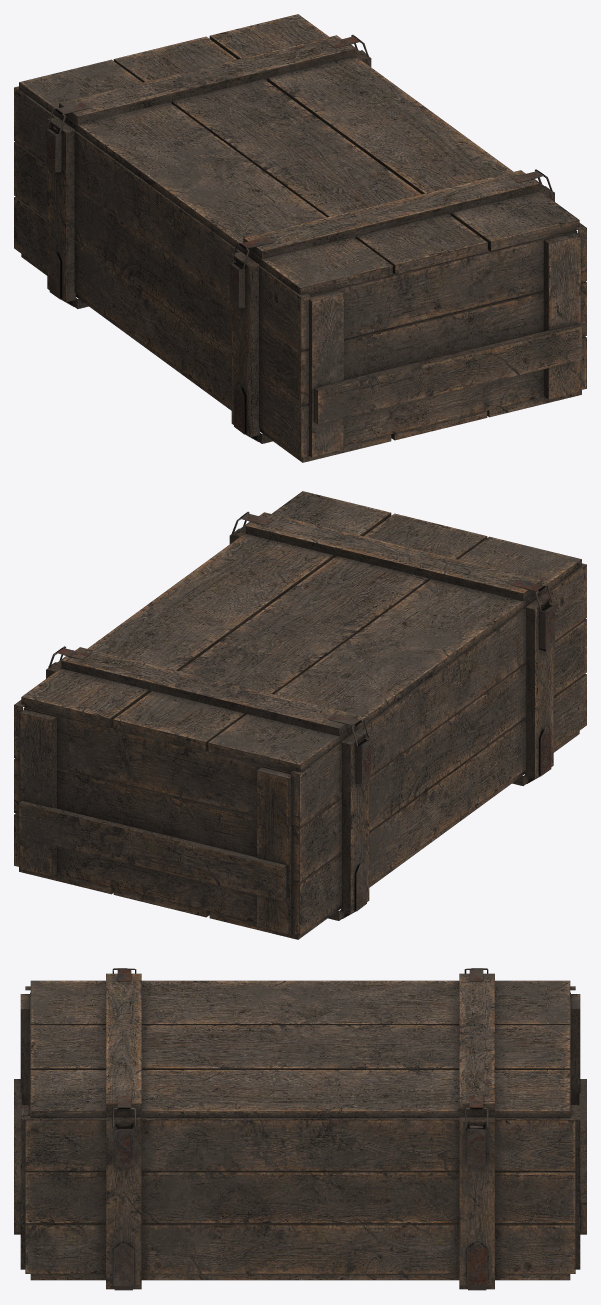
The model's file is SM_AmmoCrate_01.glb.
The picture shows the model from 3 angles, top to bottom: view 1: azimuth 30°, elevation 25°; view 2: azimuth 150°, elevation 25°; view 3: azimuth 270°, elevation 25°; orthographic projection. The views are drawn at different scales.
Parts seen in each view (by area): view 1: SM_AmmoCrate_01; view 2: SM_AmmoCrate_01; view 3: SM_AmmoCrate_01.
Part boxes in pixels (x1,y1,x2,y2): SM_AmmoCrate_01: [14, 14, 586, 462]; SM_AmmoCrate_01: [14, 491, 586, 939]; SM_AmmoCrate_01: [14, 968, 586, 1290].
Size of the model in its own units: 0.6775 by 0.4003 by 1.11.
Materials: 1 (1 with a texture image).
